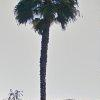Palm tree: (16, 6, 64, 95)
